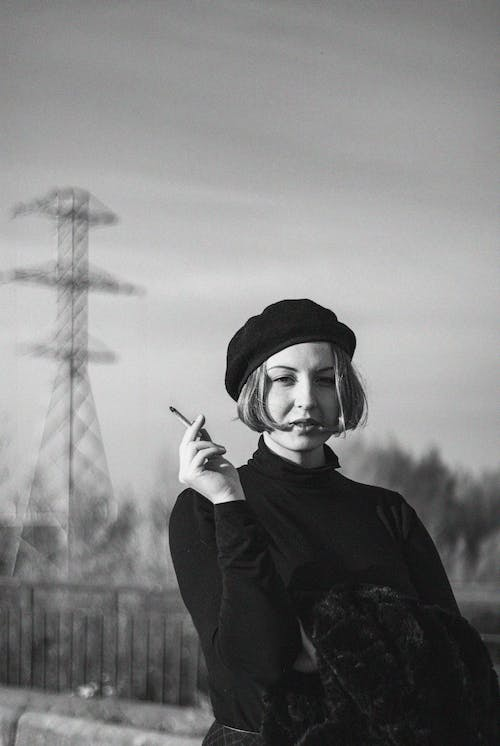cigarette: (166, 403, 205, 439)
